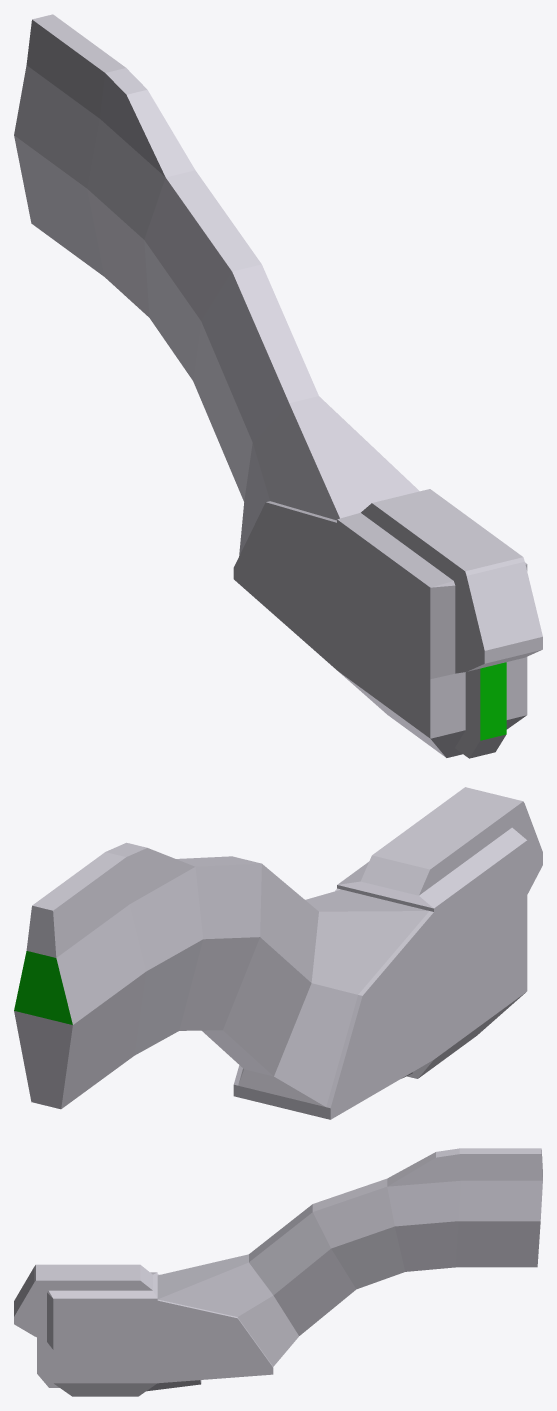
File: eng.strut.foot.fbx
3 renders of one model, top to bottom at view 1: azimuth 30°, elevation 25°; view 2: azimuth 150°, elevation 25°; view 3: azimuth 270°, elevation 25°, orthographic. The views are drawn at different scales.
Visible parts, largest first — view 1: eng.strut.foot; view 2: eng.strut.foot; view 3: eng.strut.foot.
Boxes of the visible parts, left/top/right/bottom form: eng.strut.foot: left=14, top=14, right=542, bottom=758; eng.strut.foot: left=14, top=787, right=542, bottom=1119; eng.strut.foot: left=14, top=1148, right=542, bottom=1396.
Size of the model in its own units: 0.6119 by 2.6 by 5.17.
